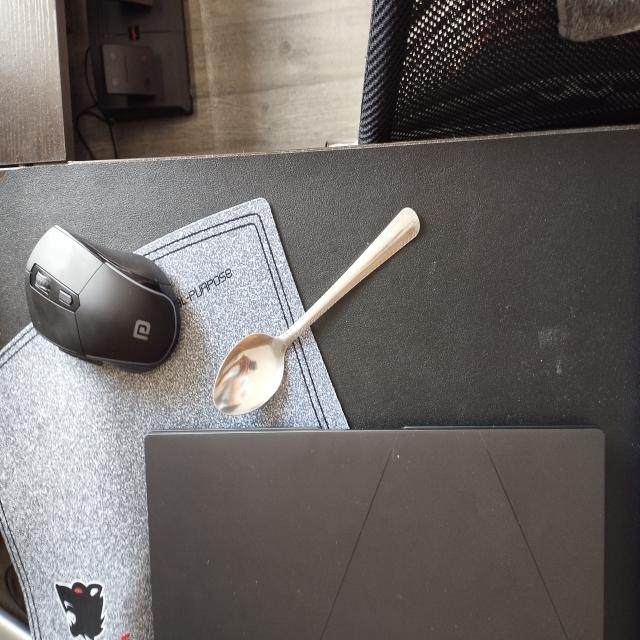Mouse: (18, 197, 186, 383)
Spoon: (194, 184, 436, 425)
